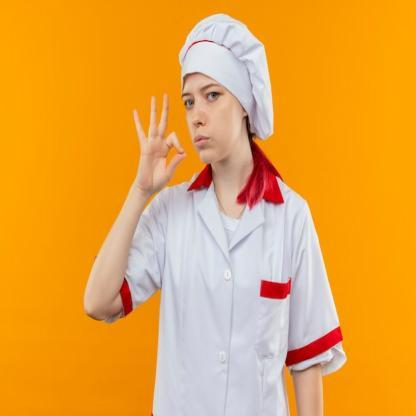ok: (129, 90, 188, 196)
